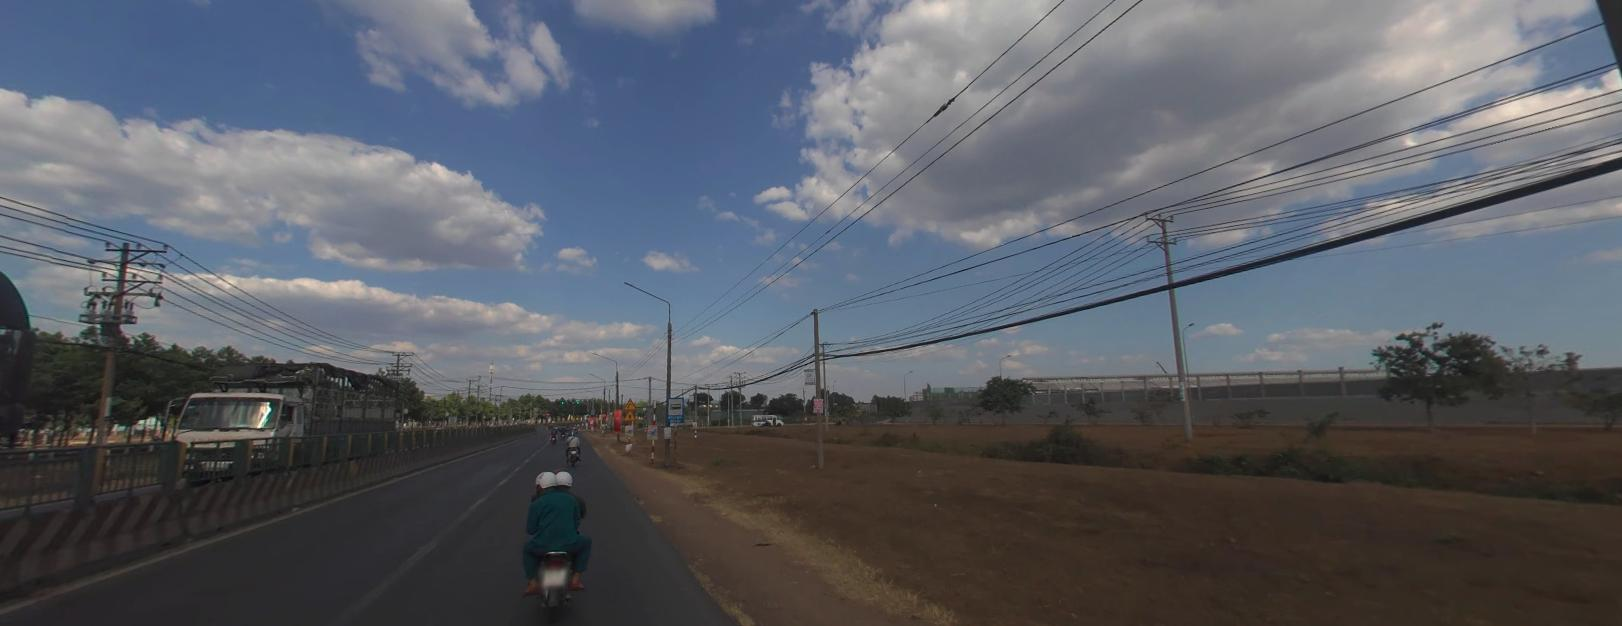Nguy hiem: (623, 409, 635, 418), (623, 397, 635, 407)
